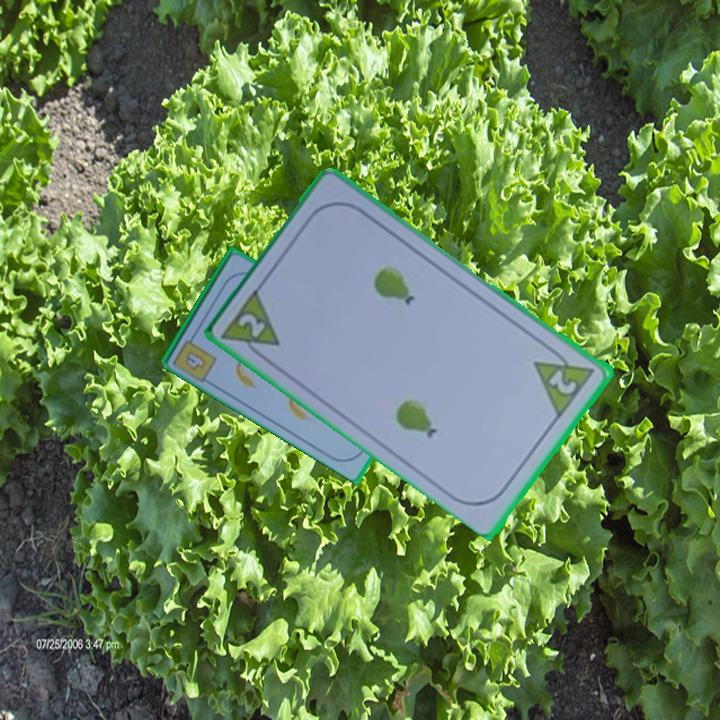2p: (219, 283, 285, 366), (531, 341, 599, 419)
4b: (182, 347, 209, 373)
